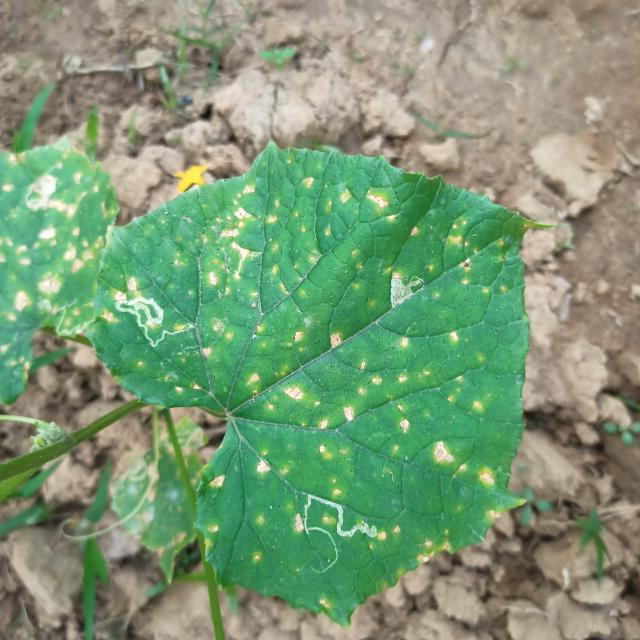disease_cucumber: (124, 172, 507, 554), (0, 155, 100, 333)
